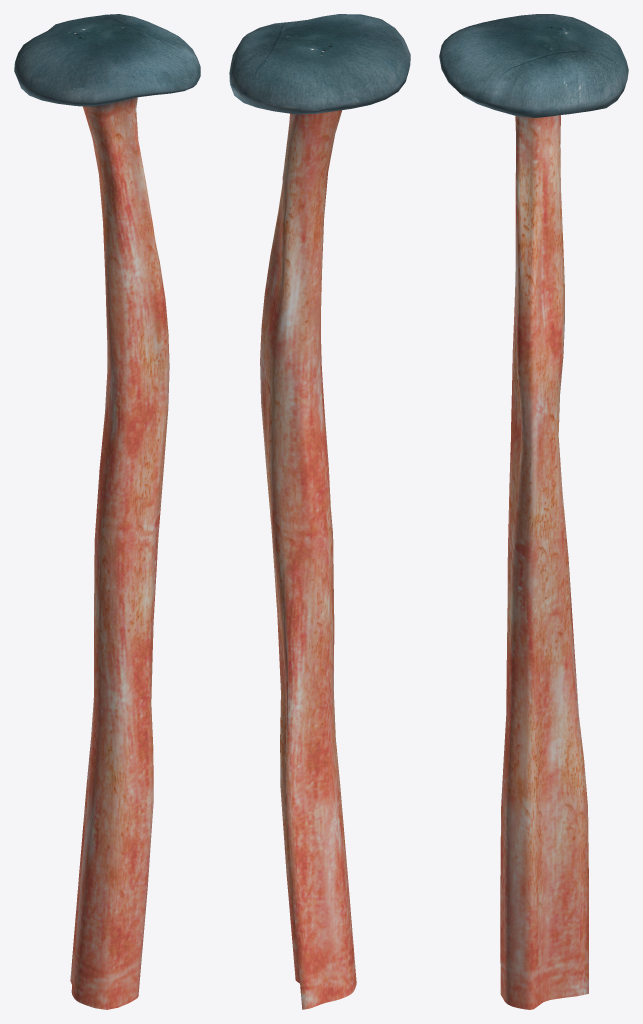
File: mushy6.FBX
The picture shows the model from 3 angles, left to right: view 1: azimuth 30°, elevation 25°; view 2: azimuth 150°, elevation 25°; view 3: azimuth 270°, elevation 25°; orthographic projection.
Visible parts, largest first — view 1: mushy6_uv; view 2: mushy6_uv; view 3: mushy6_uv.
Part boxes in pixels (x1=…): mushy6_uv: x1=14, y1=14, x2=200, y2=1009; mushy6_uv: x1=229, y1=14, x2=410, y2=1009; mushy6_uv: x1=439, y1=14, x2=628, y2=1009.
Size of the model in its own units: 90.91 by 513 by 91.67.
